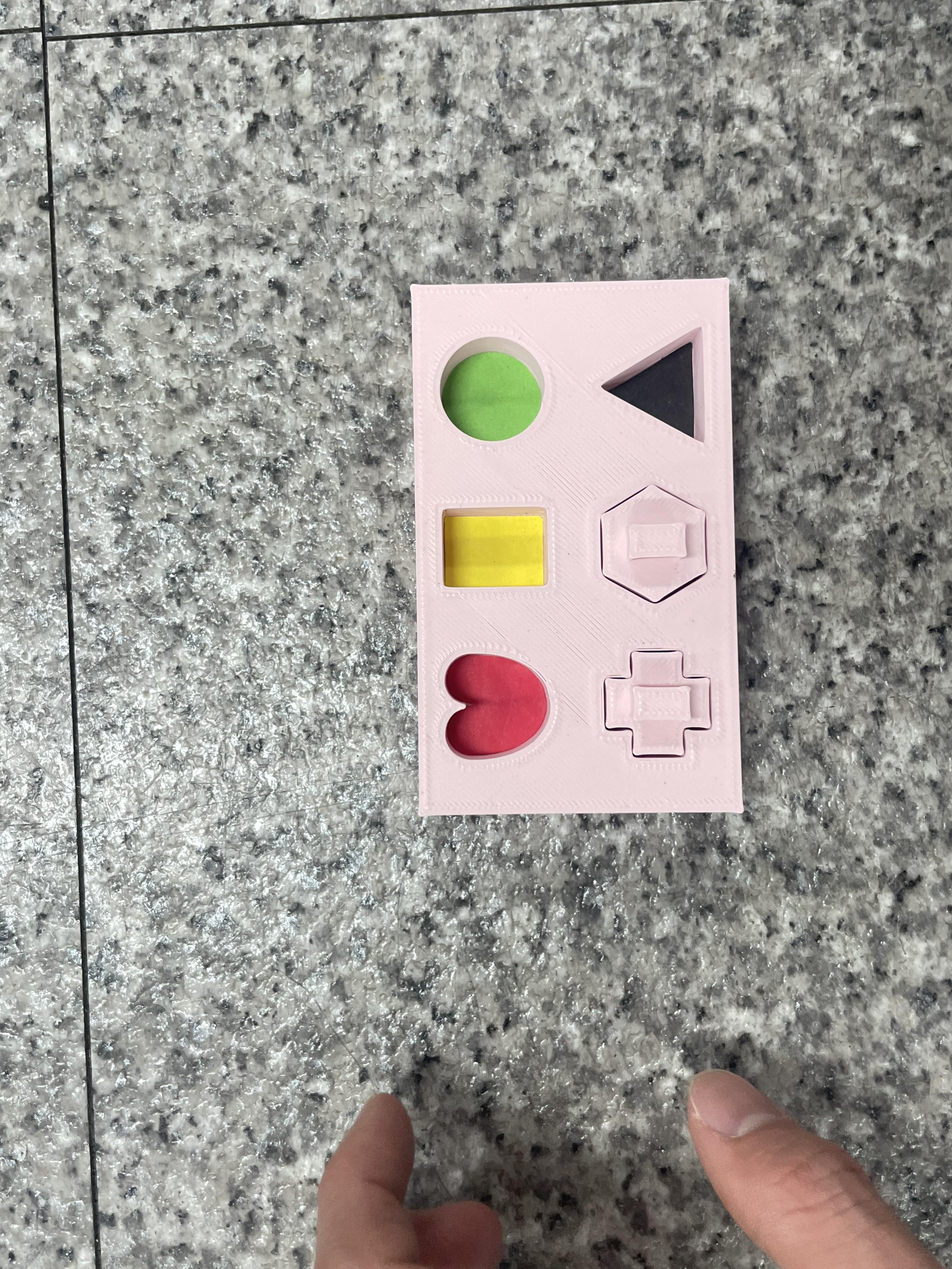unsolved: (390, 259, 775, 840)
